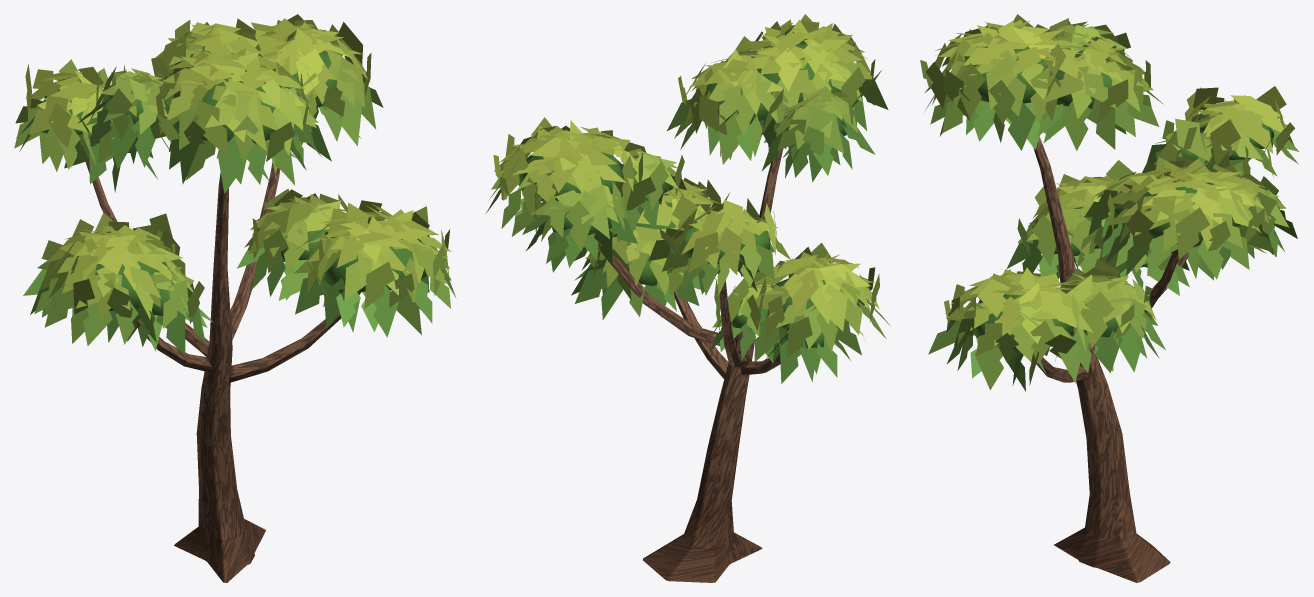
File: tree_1.glb
3 renders of one model, left to right at view 1: azimuth 30°, elevation 25°; view 2: azimuth 150°, elevation 25°; view 3: azimuth 270°, elevation 25°, orthographic. The views are drawn at different scales.
Visible parts, largest first — view 1: tree_1; view 2: tree_1; view 3: tree_1.
Boxes of the visible parts, x1,y1,x2,y2 form: tree_1: (14,14,456,582); tree_1: (486,14,890,582); tree_1: (920,14,1299,582).
Size of the model in its own units: 4.9 by 7 by 4.7.
Materials: 2 (2 with a texture image).
